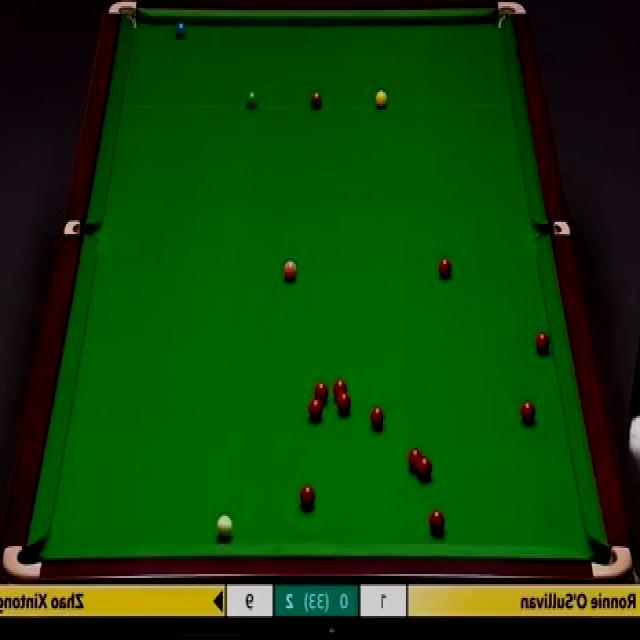blue-ball: (174, 22, 186, 38)
brown-ball: (310, 90, 323, 109)
green-ball: (246, 90, 259, 109)
pink-ball: (282, 262, 298, 284)
red-ball: (521, 398, 538, 423), (429, 509, 445, 534), (416, 456, 432, 480), (309, 396, 323, 421), (300, 485, 313, 511), (536, 331, 550, 355), (371, 404, 385, 428), (408, 448, 422, 471), (335, 394, 350, 415), (333, 378, 348, 399), (314, 381, 328, 403), (438, 260, 452, 278)
white-ball: (216, 513, 233, 542)
yellow-ball: (375, 90, 388, 109)
